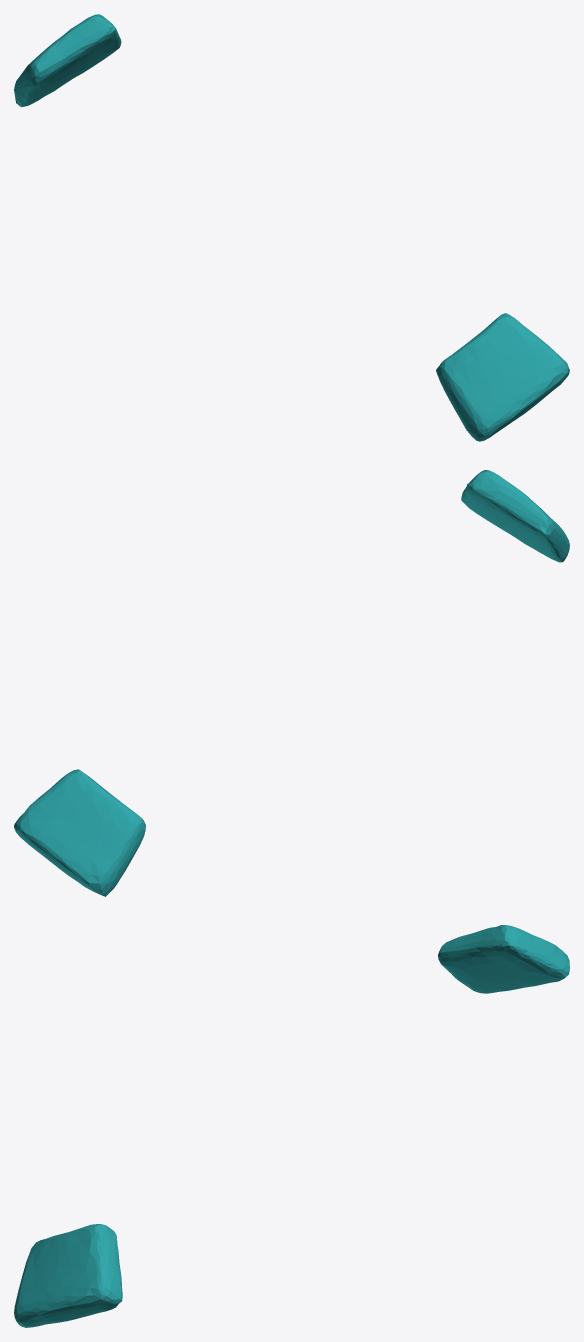
The picture shows the model from 3 angles, top to bottom: view 1: azimuth 30°, elevation 25°; view 2: azimuth 150°, elevation 25°; view 3: azimuth 330°, elevation 25°; orthographic projection.
Visible parts, largest first — view 1: 312782574.obj; view 2: 312782574.obj; view 3: 312782574.obj.
Boxes of the visible parts, box(x1,y1,x2,y2) form: 312782574.obj: box(14, 14, 569, 441); 312782574.obj: box(14, 470, 569, 896); 312782574.obj: box(14, 925, 569, 1327).
Size of the model in its own units: 1125 by 954 by 8523.
